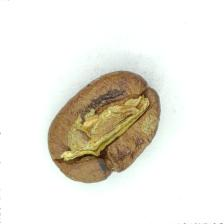NG: (61, 89, 149, 167)
